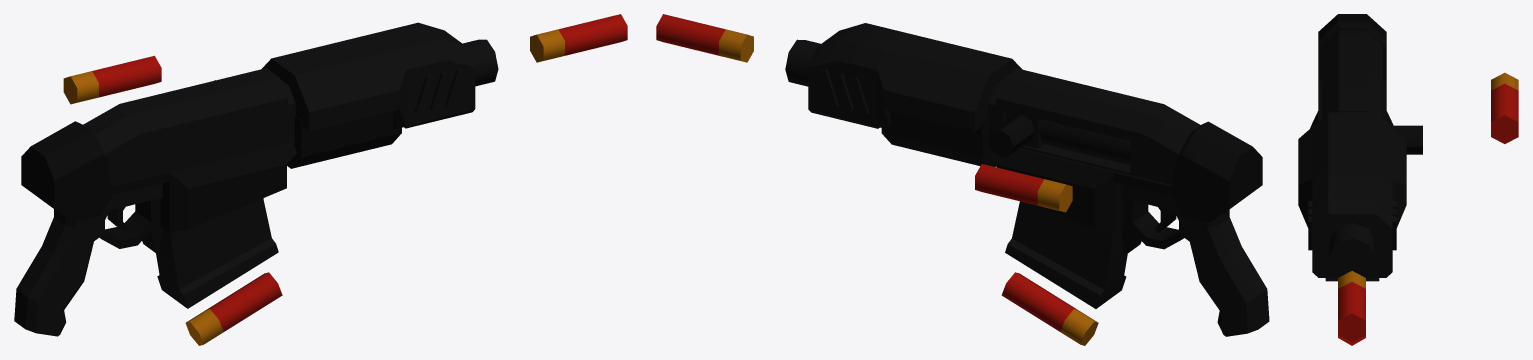
File: weapon_scifi_shotgun_Crusher.fbx
The picture shows the model from 3 angles, left to right: view 1: azimuth 30°, elevation 25°; view 2: azimuth 150°, elevation 25°; view 3: azimuth 270°, elevation 25°; orthographic projection. The views are drawn at different scales.
Visible parts, largest first — view 1: Line1322, Line1321, Line1323, Line1320, Line1318, Line1324, Rectangle400, gun_bullet3a_036, gun_bullet3a_035, gun_bullet3a_034, Line1332, Cylinder1188; view 2: Line1322, Line1321, Line1323, Line1320, Line1318, Line1324, Rectangle400, Cylinder1188, gun_bullet3a_036, gun_bullet3a_035, gun_bullet3a_034, Line1332 (+2 smaller); view 3: Line1322, Line1321, Cylinder1188, Line1320, gun_bullet3a_034, gun_bullet3a_035, Circle023, Rectangle404.
Boxes of the visible parts, box(x1,y1,x2,y2) form: Line1322: box(261, 22, 475, 131); Line1321: box(83, 68, 287, 184); Line1323: box(156, 198, 278, 308); Line1320: box(21, 121, 285, 222); Line1318: box(14, 183, 162, 336); Line1324: box(160, 141, 297, 232); Rectangle400: box(287, 111, 401, 168); gun_bullet3a_036: box(185, 272, 282, 345); gun_bullet3a_035: box(63, 55, 161, 104); gun_bullet3a_034: box(530, 14, 627, 62); Line1332: box(99, 198, 162, 254); Cylinder1188: box(463, 39, 498, 86); Line1322: box(808, 23, 1022, 131); Line1321: box(996, 68, 1200, 184); Line1323: box(1005, 201, 1127, 308); Line1320: box(1018, 121, 1262, 222); Line1318: box(1121, 183, 1269, 336); Line1324: box(986, 147, 1123, 233); Rectangle400: box(881, 111, 996, 166); Cylinder1188: box(785, 39, 1130, 165); gun_bullet3a_036: box(1001, 272, 1098, 345); gun_bullet3a_035: box(975, 164, 1072, 212); gun_bullet3a_034: box(656, 14, 753, 62); Line1332: box(1121, 198, 1183, 255); Line1322: box(1298, 112, 1406, 277); Line1321: box(1322, 30, 1382, 117); Cylinder1188: box(1328, 223, 1376, 277); Line1320: box(1318, 14, 1386, 120); gun_bullet3a_034: box(1338, 271, 1365, 342); gun_bullet3a_035: box(1491, 72, 1518, 143); Circle023: box(1391, 125, 1422, 154); Rectangle404: box(1308, 216, 1396, 250).
Size of the model in its own units: 71.35 by 29.31 by 21.92.
